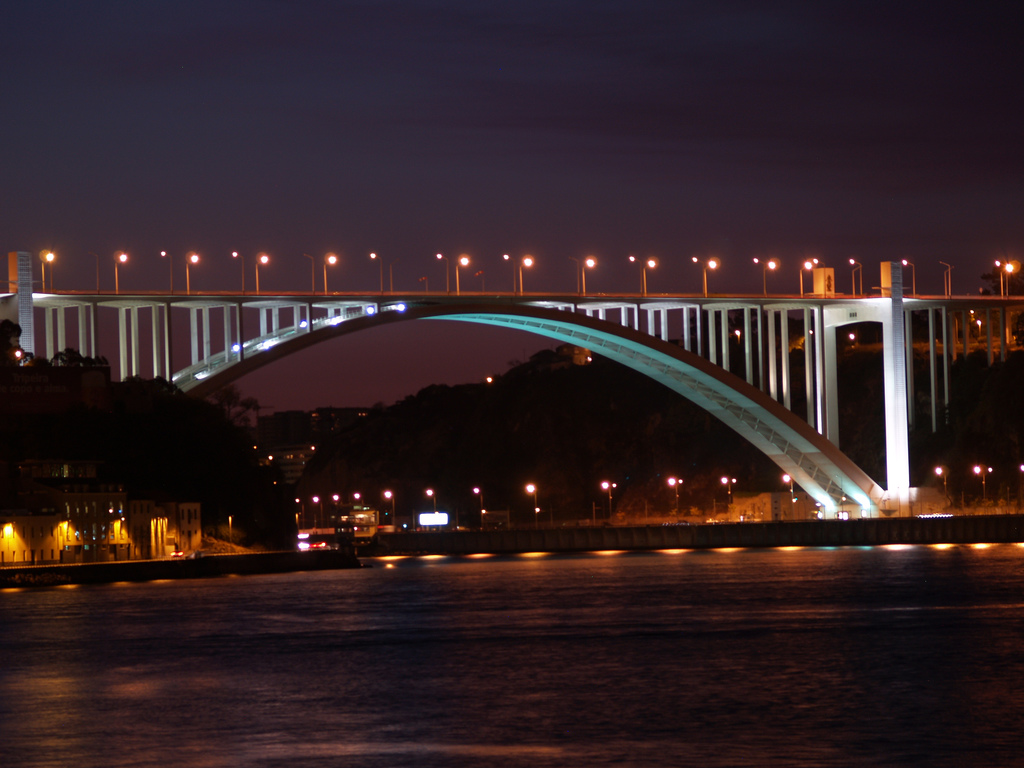arrabida: (0, 247, 1023, 522)
